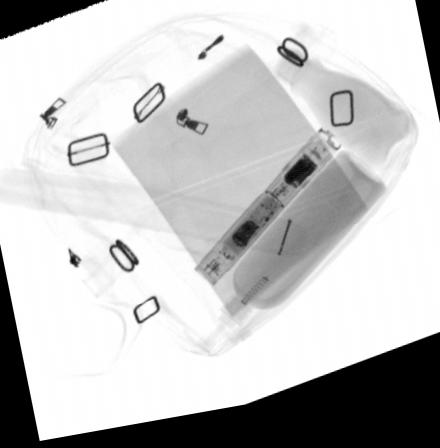Baton: (193, 137, 343, 296)
